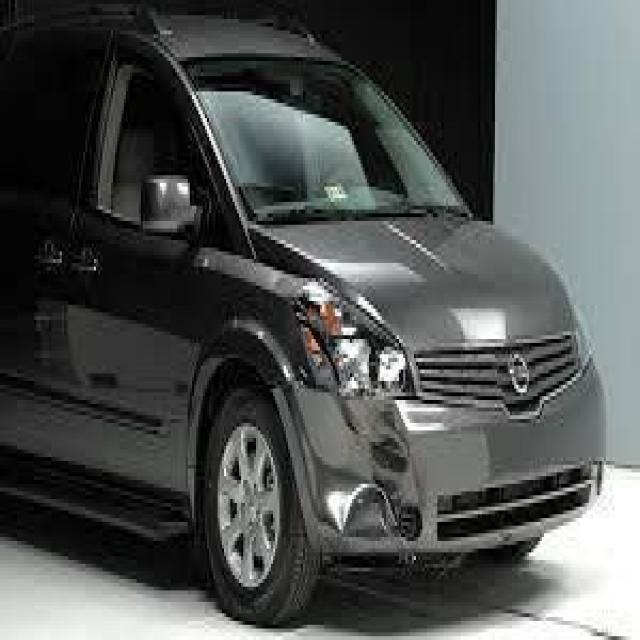damaged: (322, 400, 403, 552)
